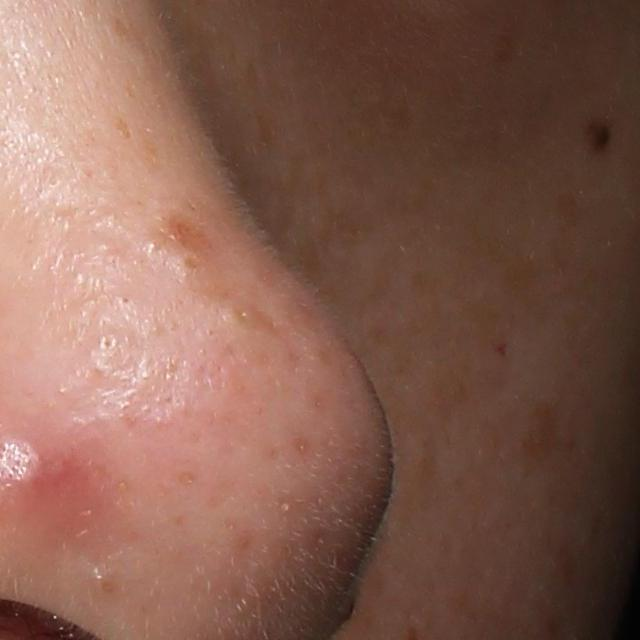comedo: (93, 331, 125, 355)
nevus: (590, 111, 608, 153)
